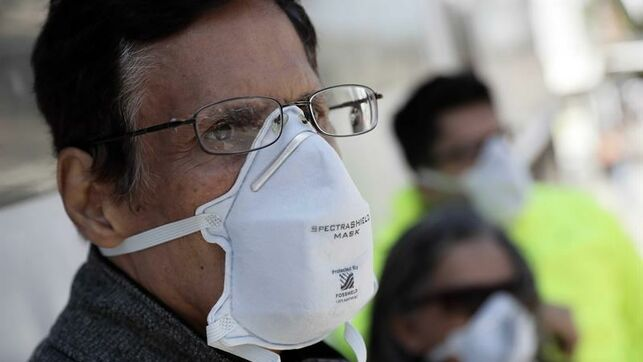n95: (180, 96, 395, 352)
